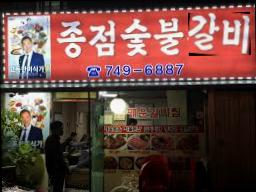galbi: (188, 13, 250, 58)
